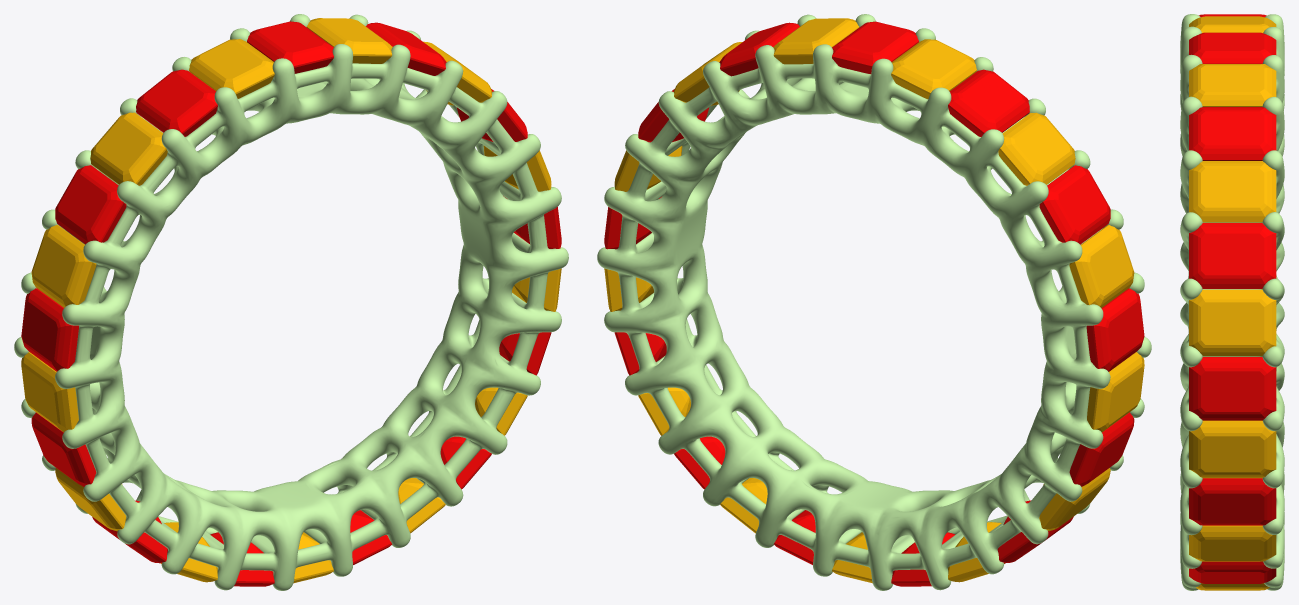
Rendered from TCC-RN-CR-32201-Emerald-Eternity-15.glb.
The picture shows the model from 3 angles, left to right: view 1: azimuth 30°, elevation 25°; view 2: azimuth 150°, elevation 25°; view 3: azimuth 270°, elevation 25°; orthographic projection.
Parts seen in each view (by area): view 1: Metal03, Diamond Band02.011, Diamond Band01.011, Diamond Band01.012, Diamond Band02.010, Diamond Band02.012, Diamond Band01.010, Diamond Band01, Diamond Band02.009, Diamond Band02, Diamond Band01.009, Diamond Band01.001 (+15 smaller); view 2: Metal03, Diamond Band02.011, Diamond Band01.011, Diamond Band01.012, Diamond Band02.010, Diamond Band02.012, Diamond Band01.010, Diamond Band01, Diamond Band02.009, Diamond Band02, Diamond Band01.009, Diamond Band01.001 (+15 smaller); view 3: Metal03, Diamond Band02.002, Diamond Band01.002, Diamond Band01.003, Diamond Band02.001, Diamond Band02.003, Diamond Band01.001, Diamond Band01.004, Diamond Band02, Diamond Band02.004, Diamond Band01, Diamond Band01.005 (+3 smaller).
Part boxes in pixels (box(x1,y1,x2,y2)): Metal03: box(14, 14, 568, 590); Diamond Band02.011: box(90, 112, 167, 185); Diamond Band01.011: box(55, 165, 126, 244); Diamond Band01.012: box(136, 69, 217, 136); Diamond Band02.010: box(31, 225, 96, 307); Diamond Band02.012: box(189, 39, 274, 98); Diamond Band01.010: box(21, 288, 78, 371); Diamond Band01: box(247, 21, 333, 73); Diamond Band02.009: box(21, 352, 78, 432); Diamond Band02: box(306, 18, 392, 63); Diamond Band01.009: box(31, 412, 96, 486); Diamond Band01.001: box(366, 22, 446, 75); Metal03: box(597, 14, 1151, 590); Diamond Band02.011: box(998, 112, 1075, 185); Diamond Band01.011: box(1039, 165, 1110, 244); Diamond Band01.012: box(948, 69, 1029, 136); Diamond Band02.010: box(1069, 225, 1134, 307); Diamond Band02.012: box(891, 39, 976, 99); Diamond Band01.010: box(1086, 288, 1144, 371); Diamond Band01: box(832, 21, 918, 73); Diamond Band02.009: box(1087, 352, 1144, 432); Diamond Band02: box(773, 18, 859, 64); Diamond Band01.009: box(1069, 412, 1134, 486); Diamond Band01.001: box(719, 22, 799, 76); Metal03: box(1180, 14, 1284, 590); Diamond Band02.002: box(1189, 289, 1276, 356); Diamond Band01.002: box(1189, 223, 1276, 288); Diamond Band01.003: box(1189, 357, 1276, 420); Diamond Band02.001: box(1189, 161, 1276, 222); Diamond Band02.003: box(1189, 420, 1276, 478); Diamond Band01.001: box(1189, 107, 1276, 160); Diamond Band01.004: box(1189, 478, 1276, 525); Diamond Band02: box(1189, 64, 1276, 106); Diamond Band02.004: box(1189, 525, 1276, 561); Diamond Band01: box(1189, 32, 1276, 63); Diamond Band01.005: box(1189, 561, 1276, 583).
Size of the model in its own units: 23.84 by 23.69 by 4.31.
